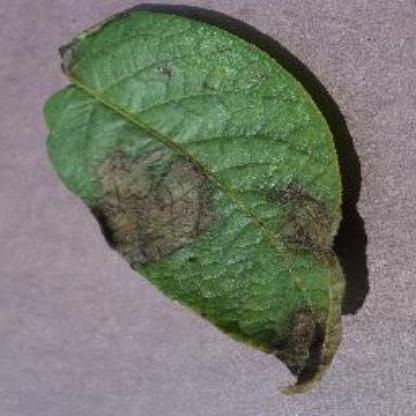Late-Blight: (38, 7, 360, 394)
